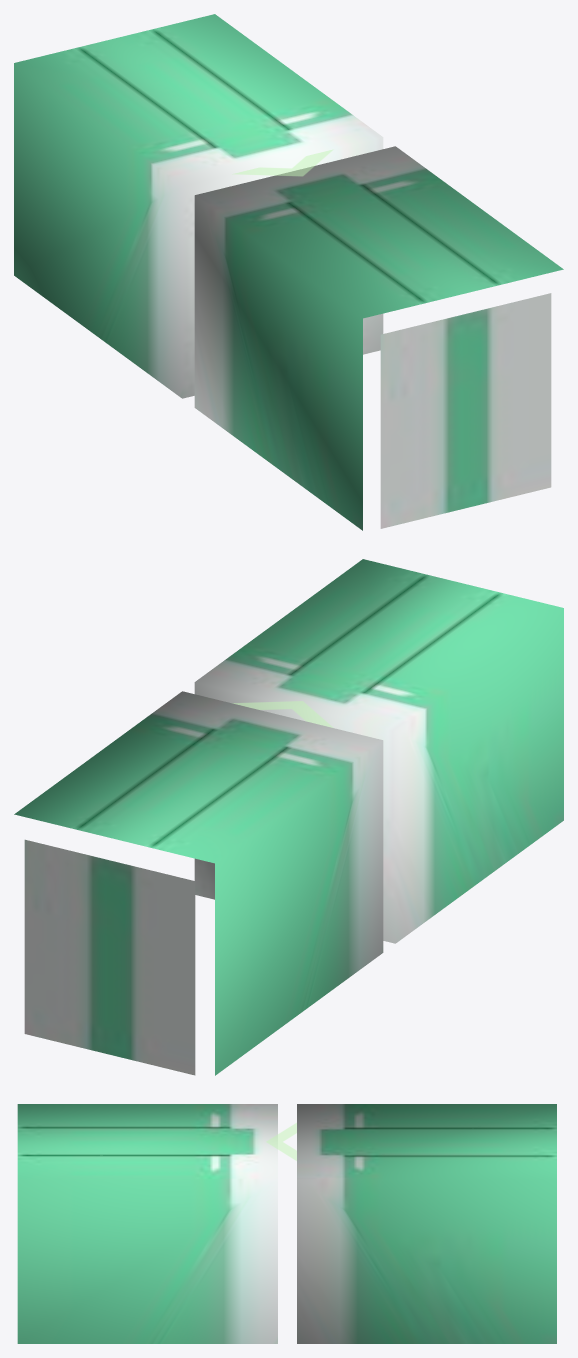
File: sorter-mk2-lod2.glb
3 renders of one model, top to bottom at view 1: azimuth 30°, elevation 25°; view 2: azimuth 150°, elevation 25°; view 3: azimuth 270°, elevation 25°, orthographic. The views are drawn at different scales.
Visible parts, largest first — view 1: ARail, BRail, BCap, arrow; view 2: BRail, ARail, ACap, arrow; view 3: BRail, ARail, arrow.
Boxes of the visible parts, x1,y1,x2,y2 form: ARail: [14, 14, 383, 398]; BRail: [194, 146, 563, 530]; BCap: [380, 293, 551, 528]; arrow: [232, 149, 333, 176]; BRail: [194, 559, 563, 943]; ARail: [14, 691, 383, 1075]; ACap: [24, 839, 195, 1075]; arrow: [233, 701, 333, 727]; BRail: [17, 1104, 277, 1343]; ARail: [297, 1104, 556, 1343]; arrow: [266, 1123, 296, 1160].
Size of the model in its own units: 0.99 by 1 by 3.04.
2 materials, 2 textured.
